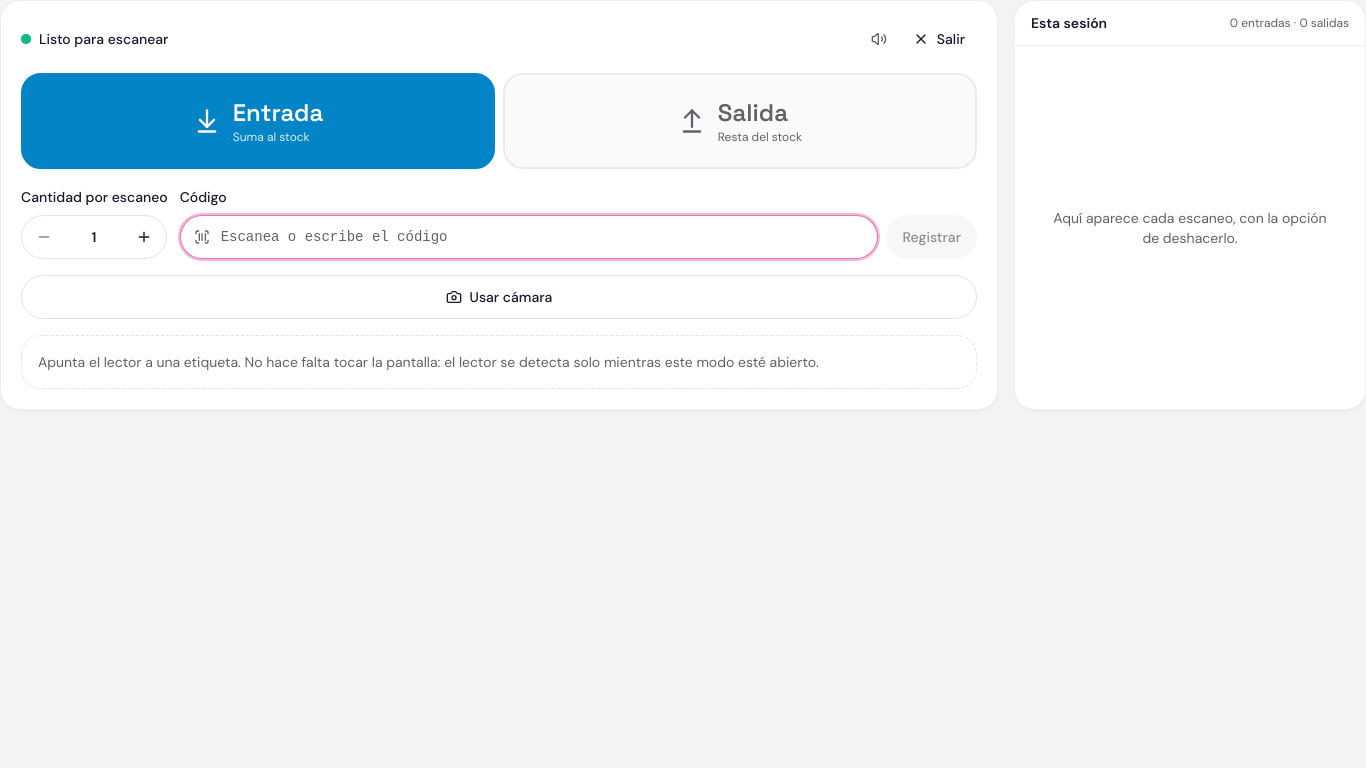
Test: InventoryScanPanel › código desconocido → el código ya asignado a otro se informa en el diálogo
Step 1. Type "ABC-1" into the field labelled "Código" → x=529, y=237, box x1=180 y1=215 x2=878 y2=259
Then press Enter
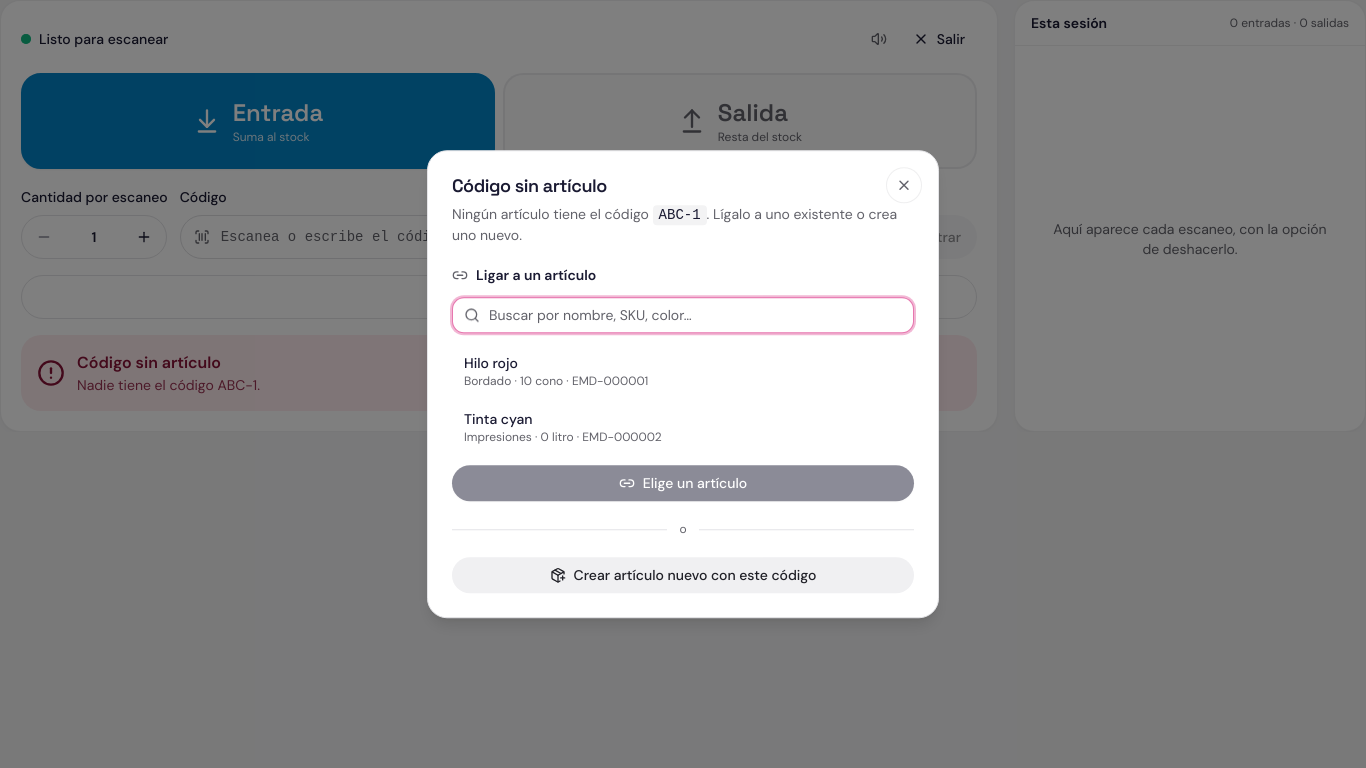
Step 2. Click the button "Tinta cyan Impresiones · 0 litro · EMD-000002" → x=498, y=419, box x1=452 y1=401 x2=914 y2=453
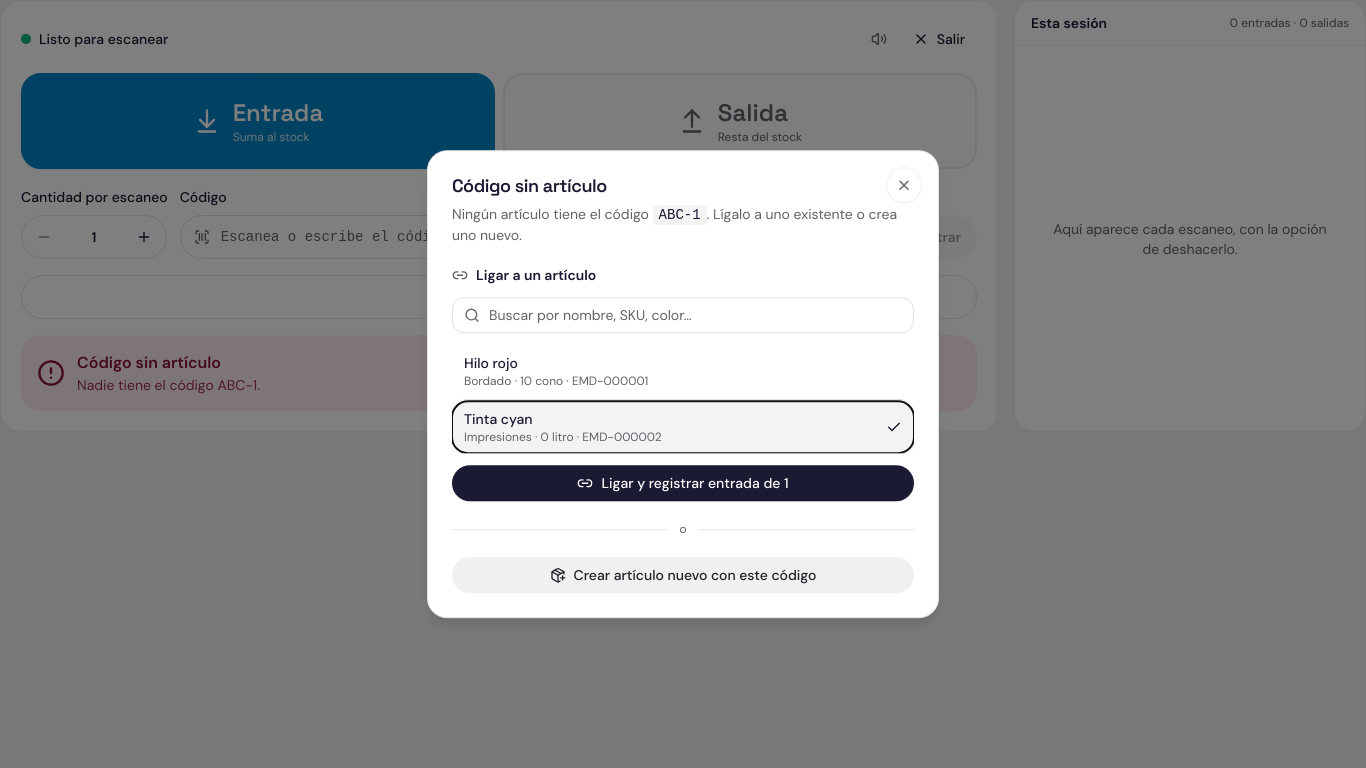
Step 3. Click the button "Ligar y registrar entrada de 1" → x=683, y=483, box x1=452 y1=465 x2=914 y2=501
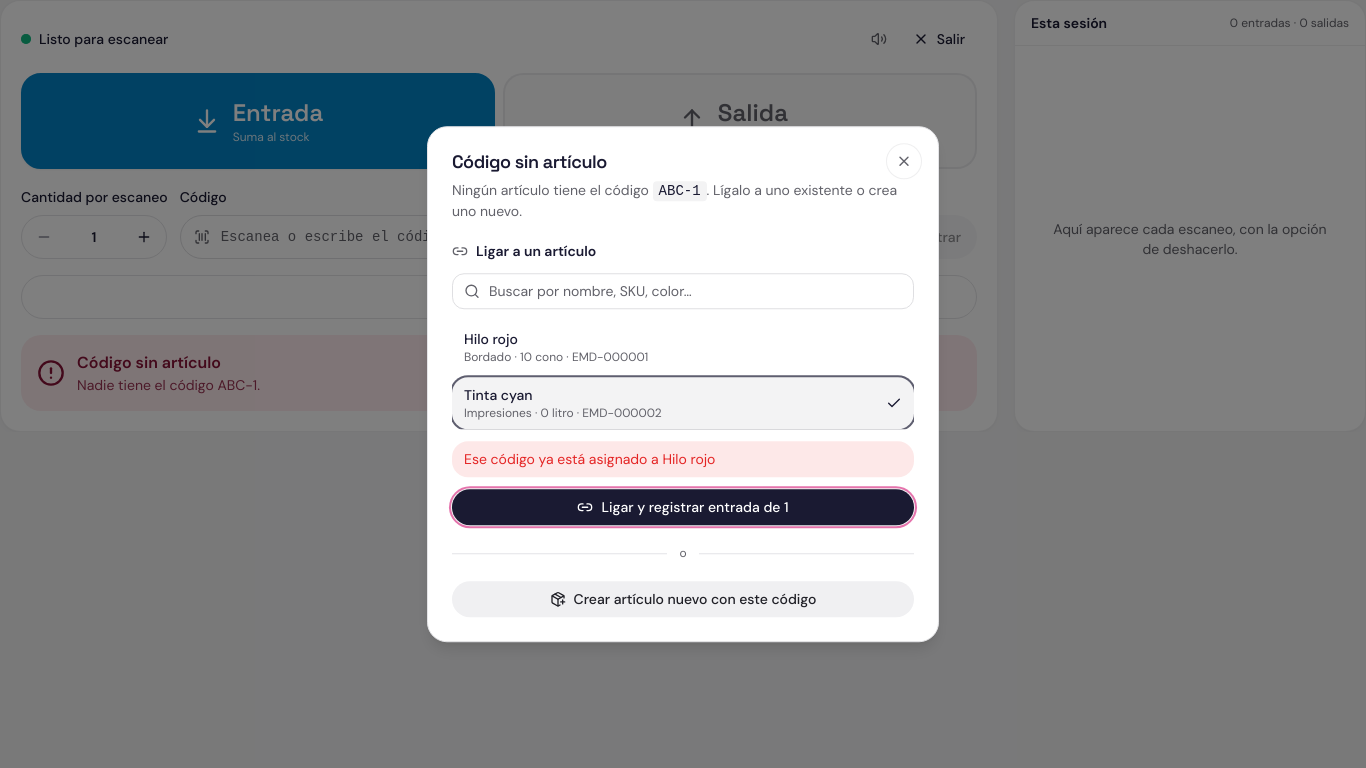
Result: the message reads "Ese código ya está asignado a Hilo rojo" at x1=464 y1=450 x2=715 y2=468
